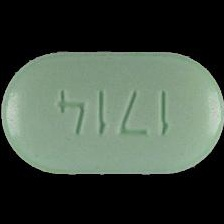0093-1714: (0, 0, 224, 224)
